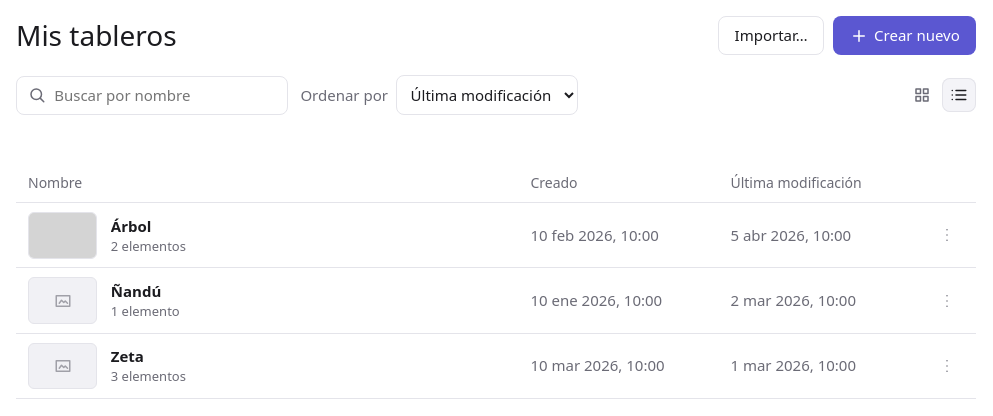
Test: list view (default) › filters by name ignoring case and accents
Check: the heading "Mis tableros" is shown, box left=16, top=16, right=177, bottom=55
Check: the link "Ñandú" is shown, box left=111, top=281, right=161, bottom=301
In the search field: (165, 95) left=54, top=77, right=276, bottom=114, type "arbol"
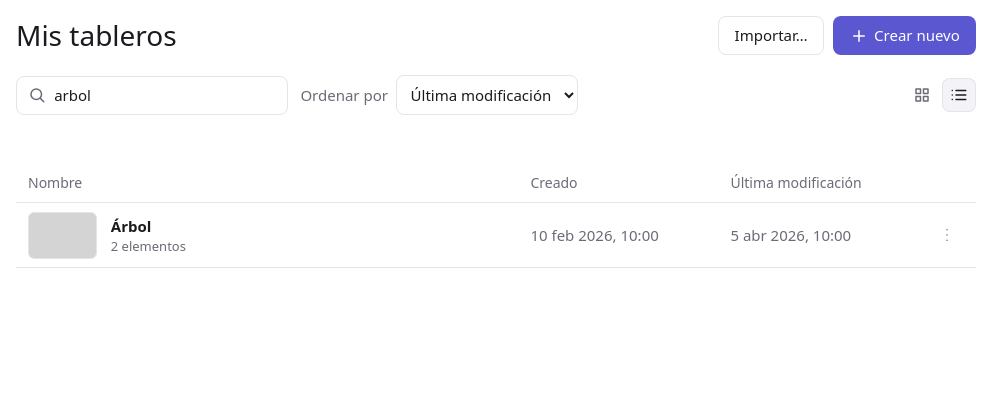
Replace the text in the search field with "nada que ver": (165, 95) left=54, top=77, right=276, bottom=114
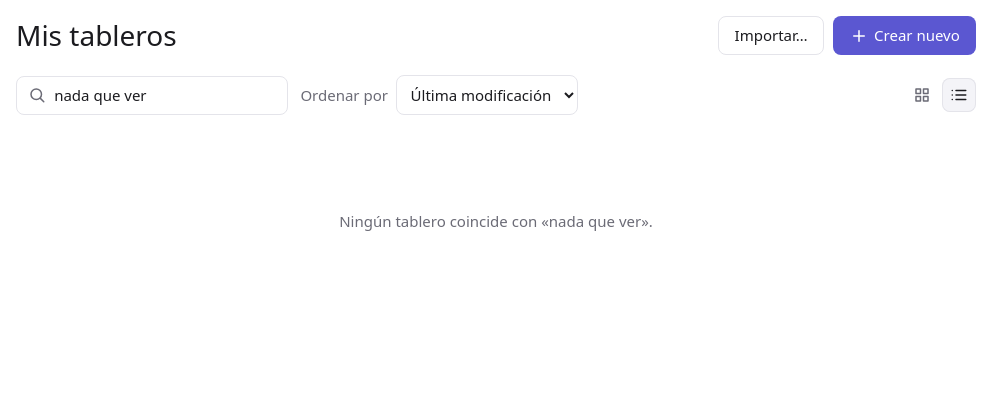
Check: the text "Ningún tablero coincide con «nada que ver»." is shown, box left=339, top=211, right=653, bottom=232
